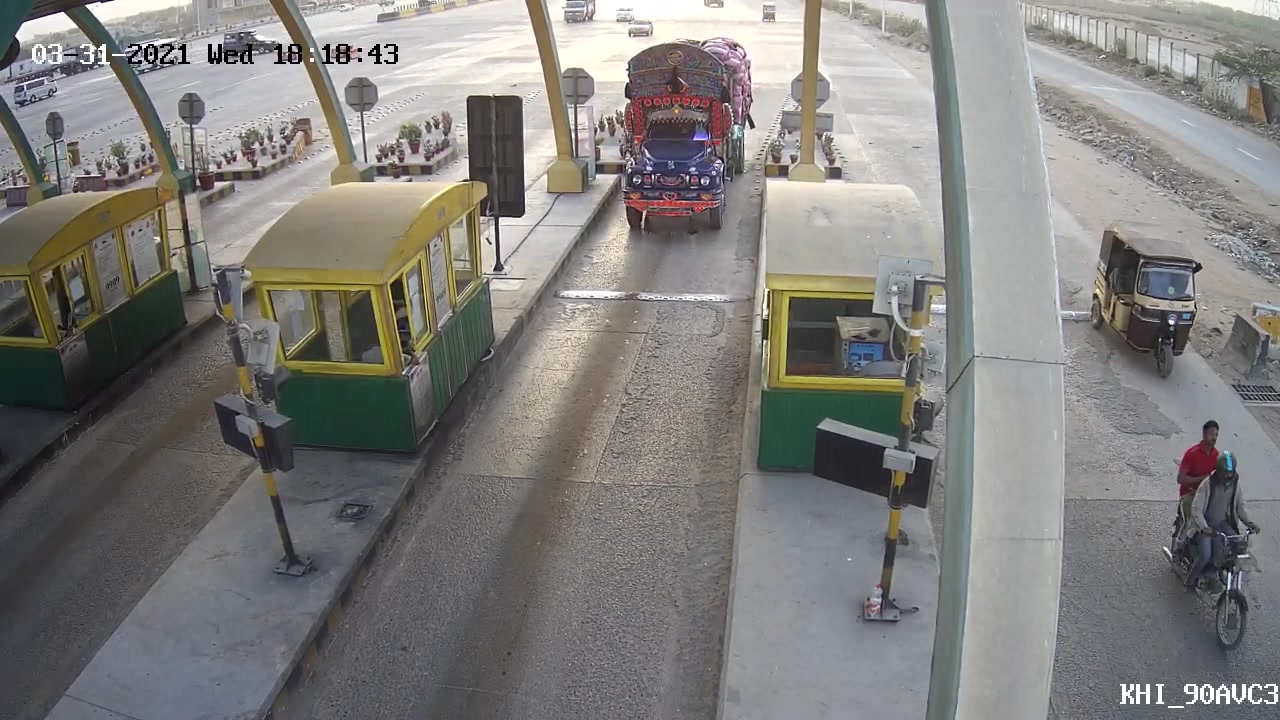F5: (607, 33, 761, 235)
